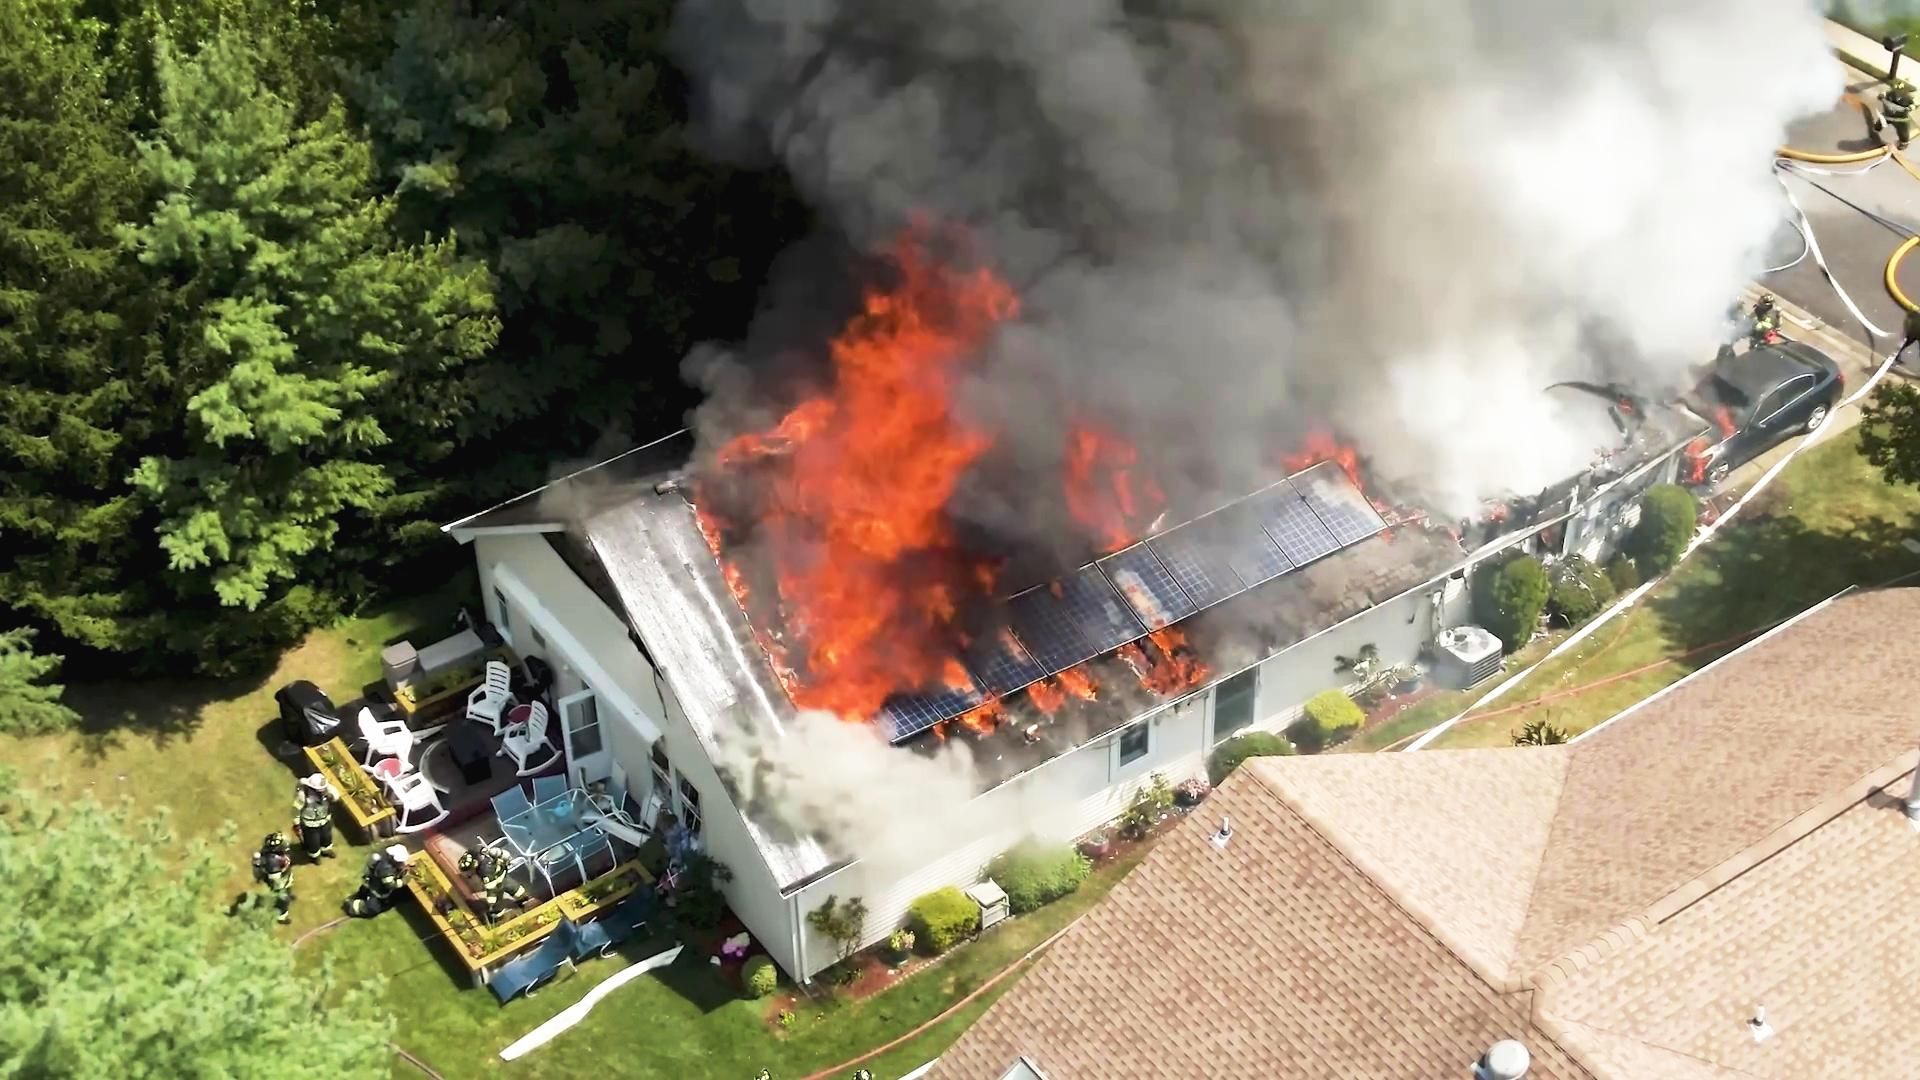fire: (702, 236, 1006, 687)
smoke: (1089, 0, 1557, 458), (769, 0, 1799, 173)
